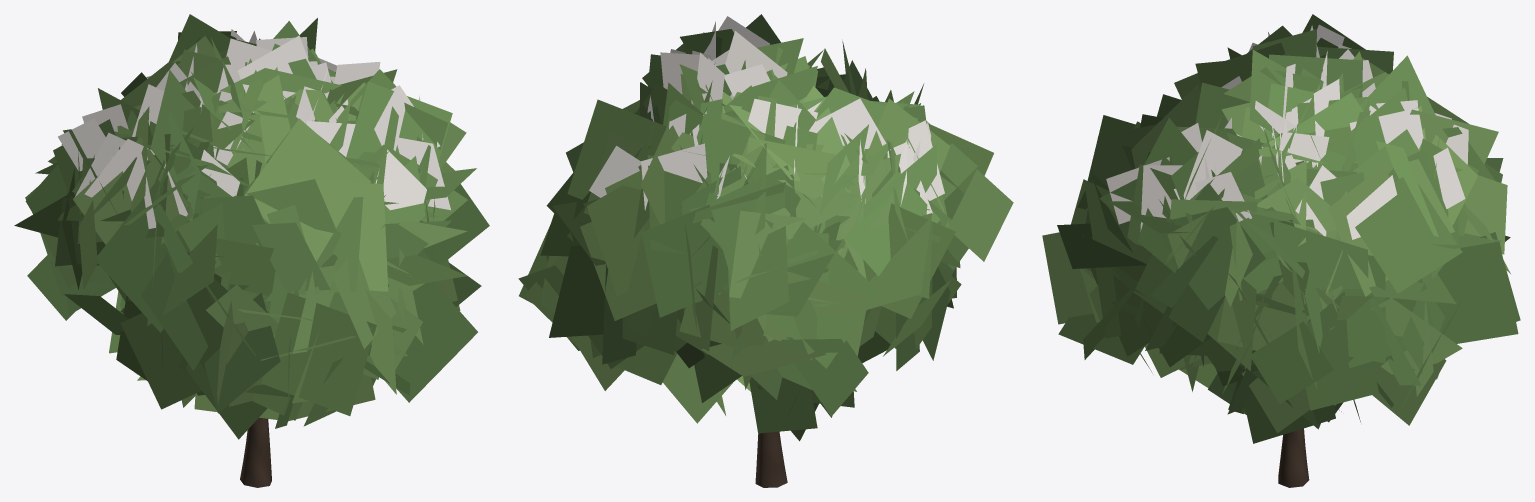
File: chestnut_1.glb
3 views of the same model, side by side, from view 1: azimuth 30°, elevation 25°; view 2: azimuth 150°, elevation 25°; view 3: azimuth 270°, elevation 25° (orthographic).
Parts seen in each view (by area): view 1: chestnut_1; view 2: chestnut_1; view 3: chestnut_1.
Part boxes in pixels (bbox=[...]): chestnut_1: bbox=[14, 14, 489, 487]; chestnut_1: bbox=[518, 14, 1013, 487]; chestnut_1: bbox=[1042, 14, 1520, 487].
Bounding box in the file's own units: 0.9393 × 1 × 1.
